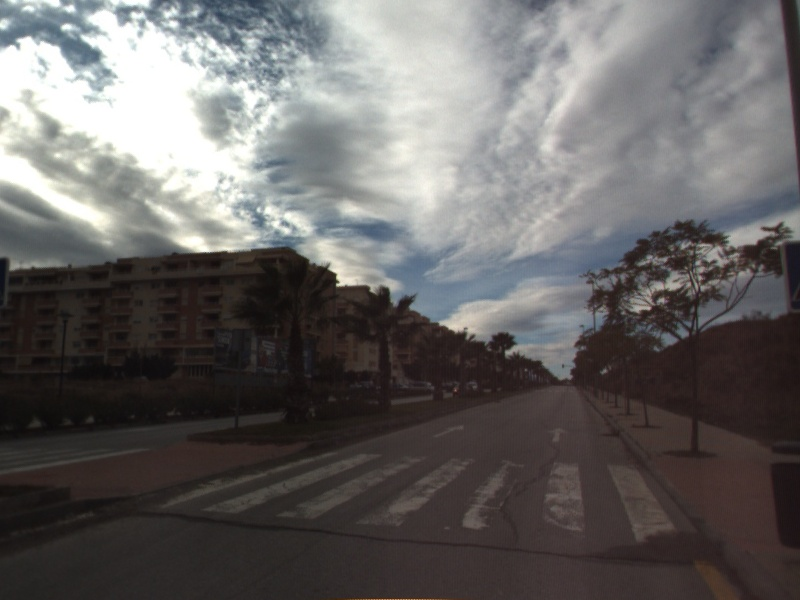STRAIGHT: (431, 423, 466, 439), (545, 425, 572, 444)
